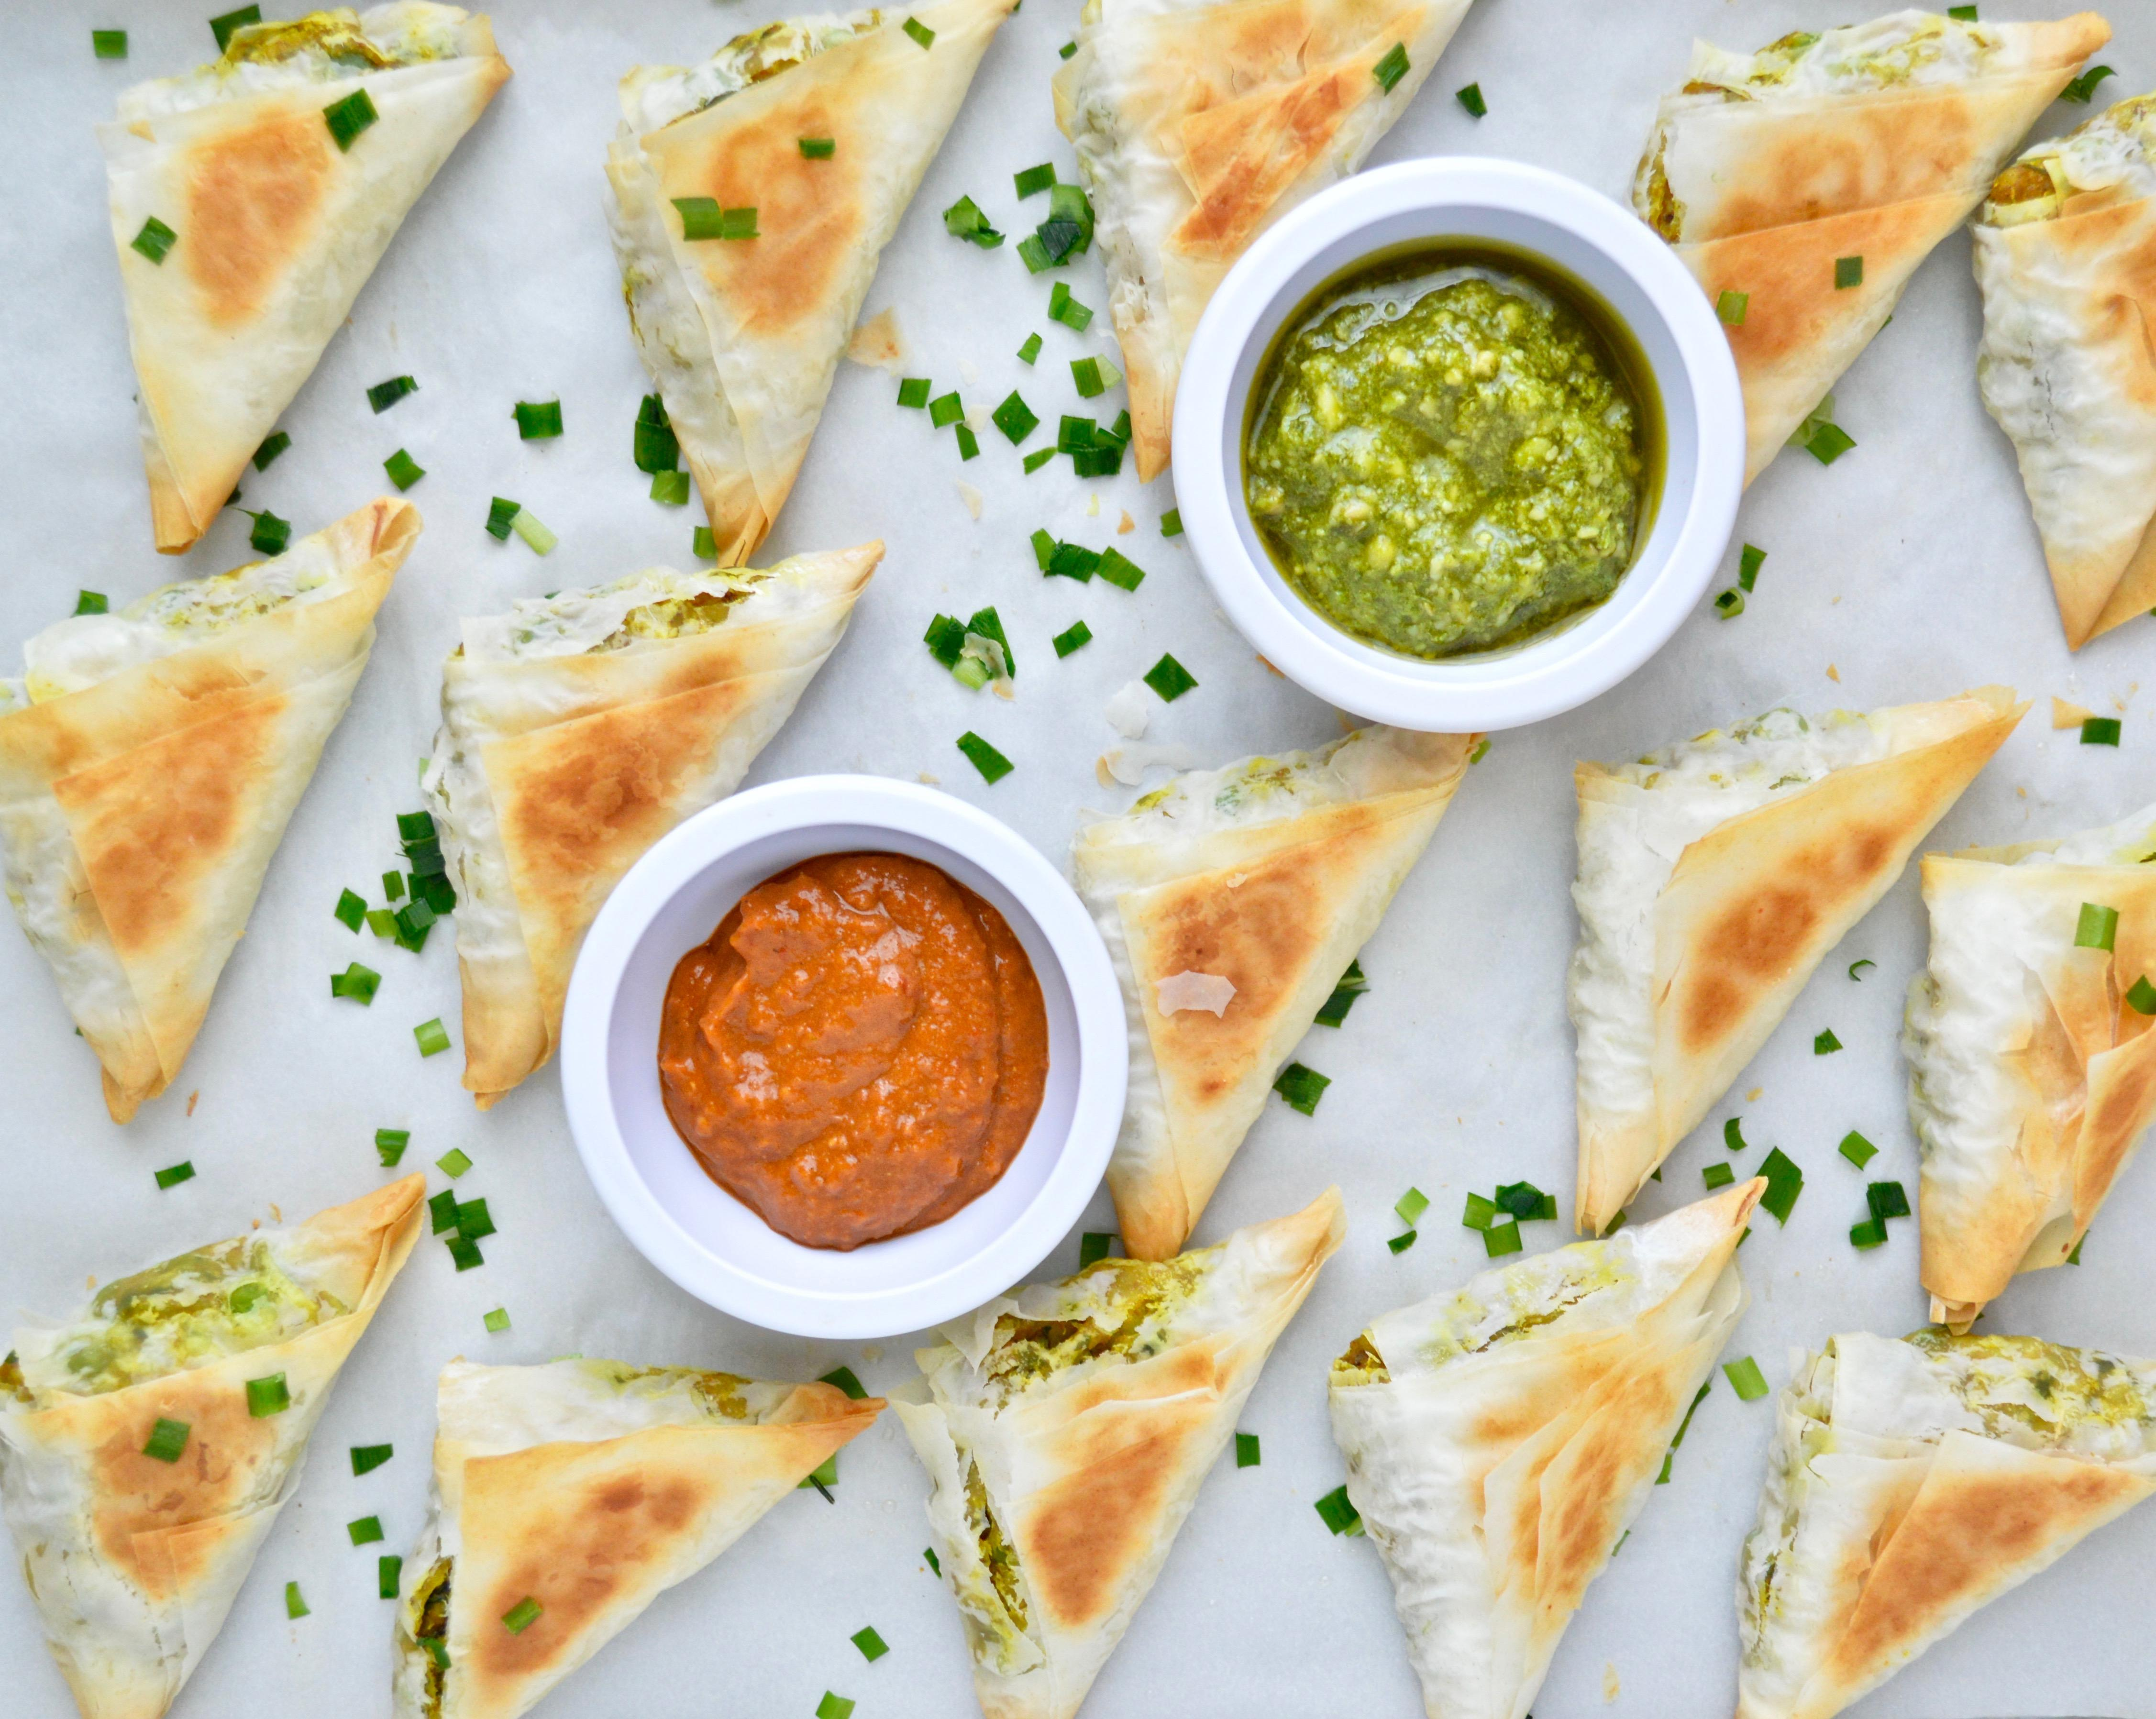samosa: (893, 1191, 1347, 1717), (1074, 728, 1474, 1259), (1777, 893, 1786, 902), (1281, 947, 1284, 956)
